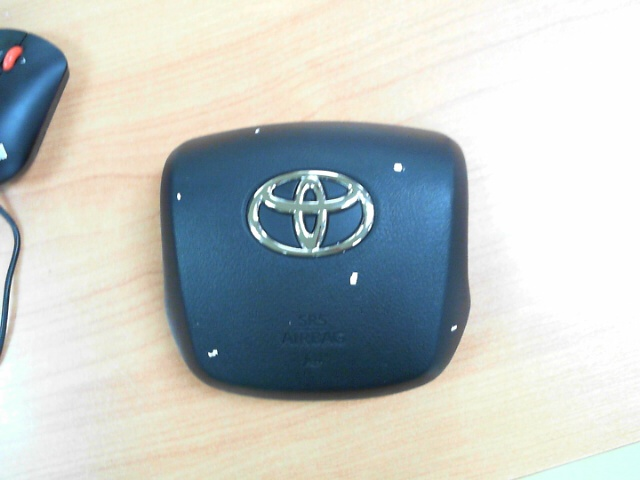Airbag: (350, 272, 358, 287), (208, 348, 218, 359), (393, 162, 403, 173), (177, 191, 182, 201), (451, 324, 457, 332), (255, 128, 259, 134)
